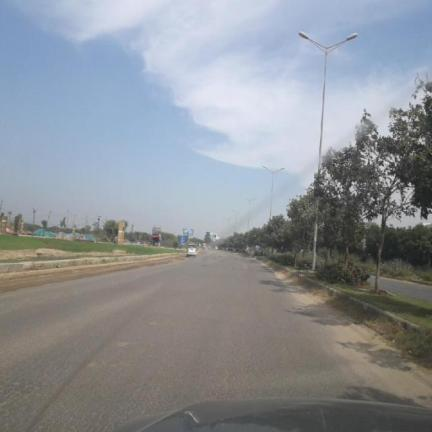Road: (0, 252, 431, 431), (380, 277, 431, 302)
